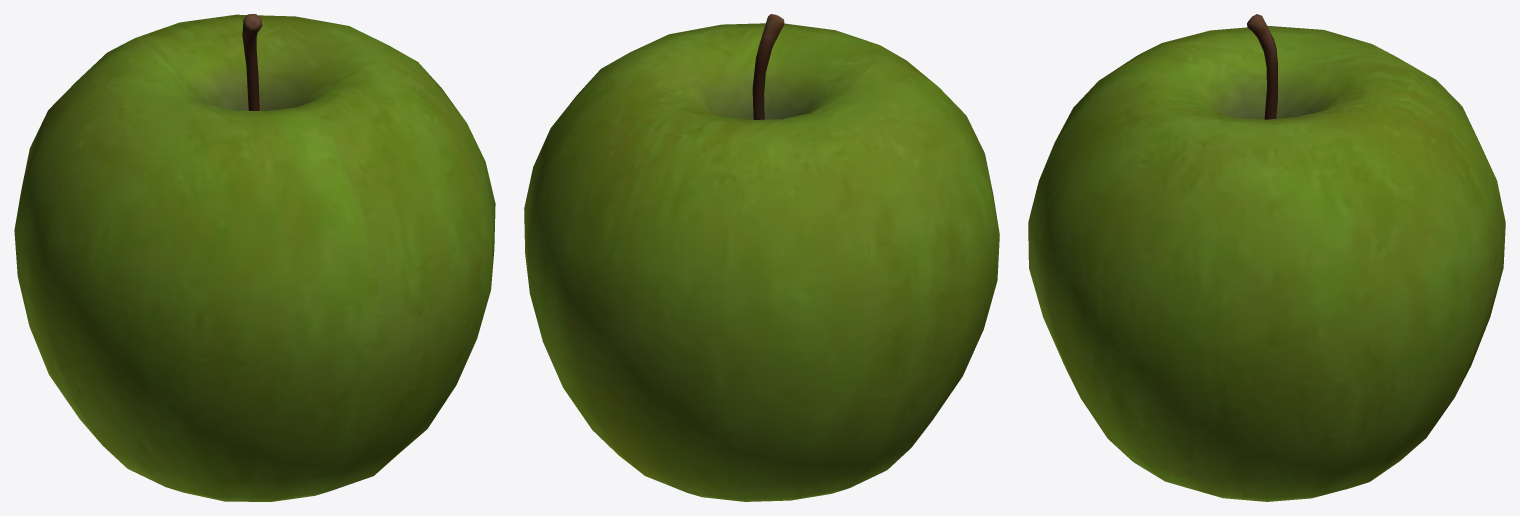
The model's file is apple.glb.
The picture shows the model from 3 angles, left to right: view 1: azimuth 30°, elevation 25°; view 2: azimuth 150°, elevation 25°; view 3: azimuth 270°, elevation 25°; orthographic projection. The views are drawn at different scales.
Parts seen in each view (by area): view 1: Apple_LOD0; view 2: Apple_LOD0; view 3: Apple_LOD0.
Part boxes in pixels (x1,y1,x2,y2): Apple_LOD0: (14,14,495,501); Apple_LOD0: (524,14,999,501); Apple_LOD0: (1028,14,1505,501).
Bounding box in the file's own units: 0.1736 × 0.1782 × 0.1748.
Materials: 1 (1 with a texture image).
